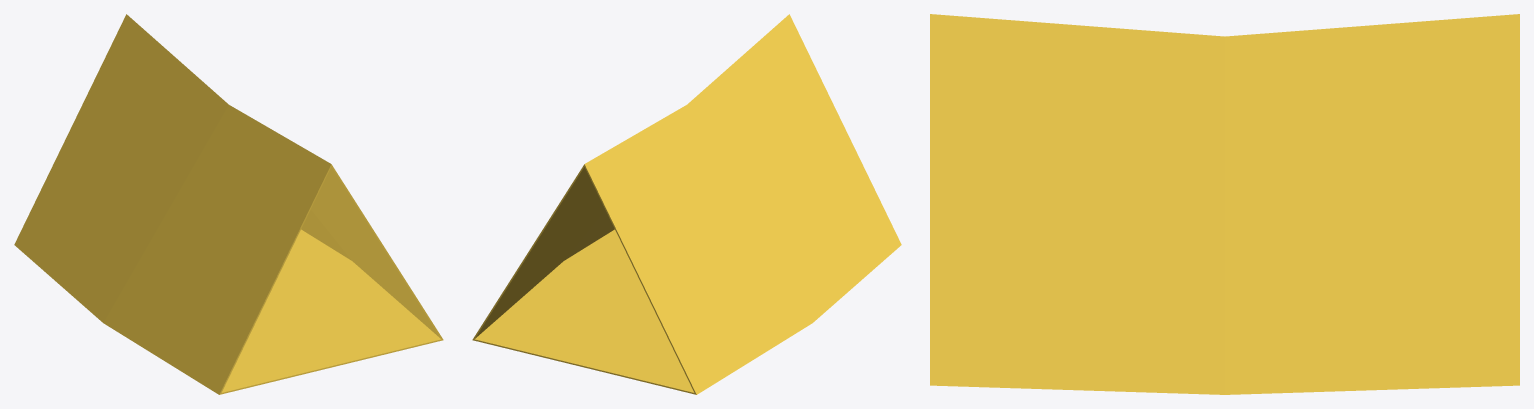
The model's file is Tent.fbx.
The picture shows the model from 3 angles, left to right: view 1: azimuth 30°, elevation 25°; view 2: azimuth 150°, elevation 25°; view 3: azimuth 270°, elevation 25°; orthographic projection. The views are drawn at different scales.
Visible parts, largest first — view 1: tent00; view 2: tent00; view 3: tent00.
Part boxes in pixels (x1=…): tent00: x1=14, y1=14, x2=443, y2=394; tent00: x1=472, y1=14, x2=901, y2=394; tent00: x1=930, y1=14, x2=1519, y2=394.
Bounding box in the file's own units: 180 × 139 × 254.
